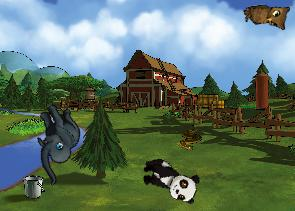elephant: (14, 97, 98, 186)
owl: (242, 1, 292, 35)
panda: (136, 154, 203, 206)
